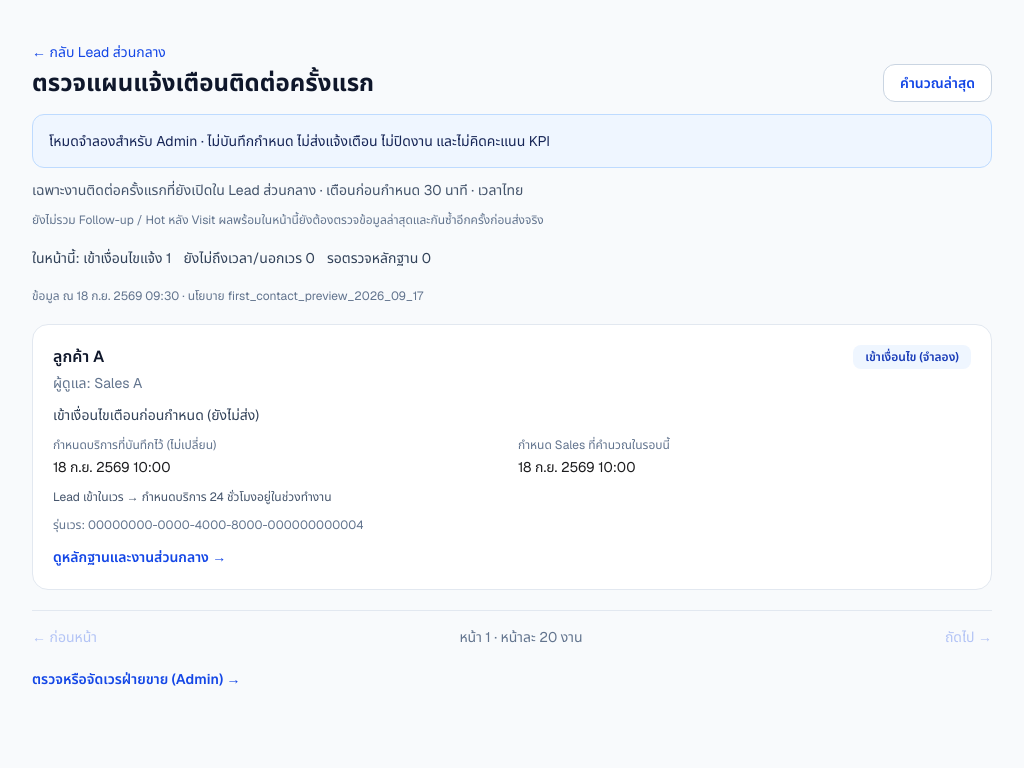
read-only Admin first-contact preview › rejects an unexpected actor after reloading
Expected: the heading "ลูกค้า A" is shown, x1=53 y1=346 x2=104 y2=367
Click the button "คำนวณล่าสุด": (938, 83) x1=883 y1=64 x2=992 y2=102
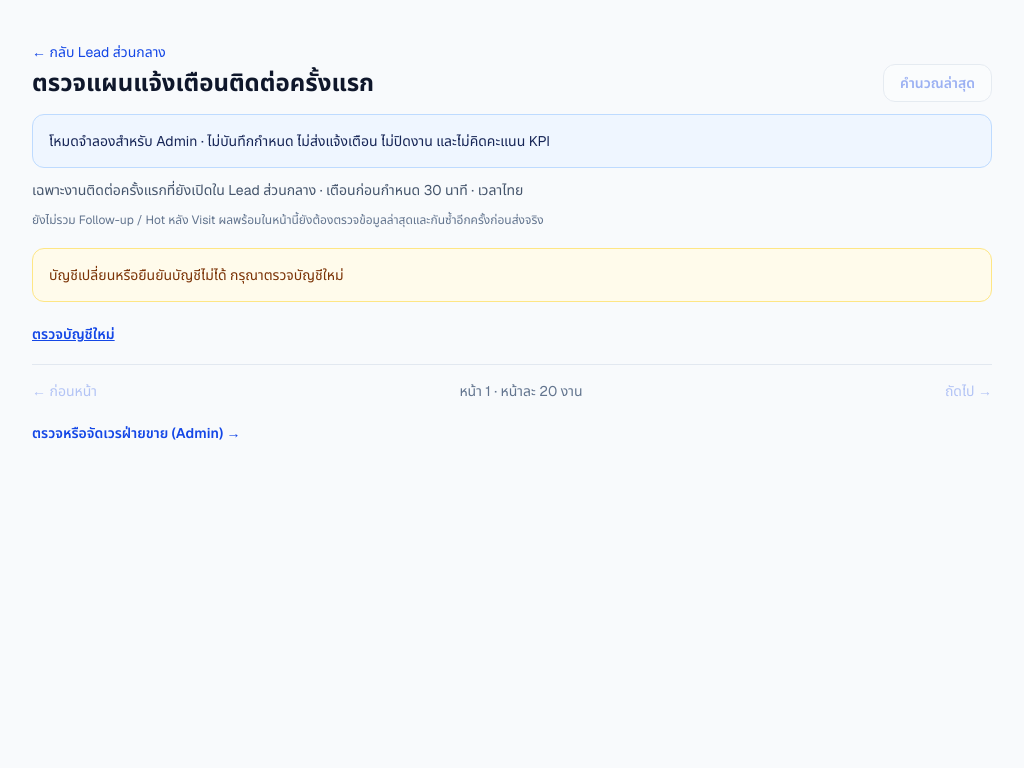
Expected: the message "บัญชีเปลี่ยนหรือยืนยันบัญชีไม่ได้ กรุณาตรวจบัญชีใหม่" is shown, x1=32 y1=248 x2=992 y2=302
